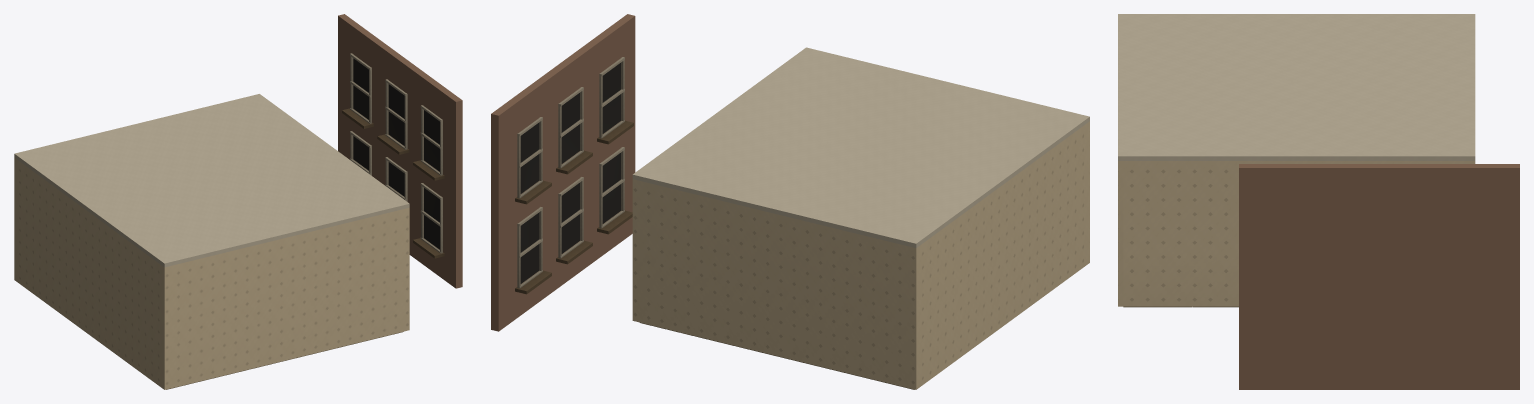
File: household-away-room.glb
3 views of the same model, side by side, from view 1: azimuth 30°, elevation 25°; view 2: azimuth 150°, elevation 25°; view 3: azimuth 270°, elevation 25° (orthographic). The views are drawn at different scales.
Parts seen in each view (by area): view 1: Plaster, Ceiling, Brick, Recess, Trim, Walnut; view 2: Plaster, Ceiling, Brick, Recess, Trim, Walnut; view 3: Brick, Ceiling, Plaster.
Boxes of the visible parts, x1,y1,x2,y2 form: Plaster: (14, 158, 409, 389); Ceiling: (14, 94, 409, 267); Brick: (338, 14, 462, 288); Recess: (353, 58, 439, 249); Trim: (350, 53, 442, 253); Walnut: (342, 108, 444, 258); Plaster: (632, 121, 1089, 389); Ceiling: (632, 47, 1089, 247); Brick: (491, 14, 635, 331); Recess: (520, 63, 620, 283); Trim: (517, 57, 624, 288); Walnut: (515, 120, 633, 294); Brick: (1239, 164, 1519, 389); Ceiling: (1118, 14, 1475, 160); Plaster: (1118, 161, 1475, 306).
Bounding box in the file's own units: 9.39 × 4.8 × 7.87.
Materials: 13 (8 with a texture image).
